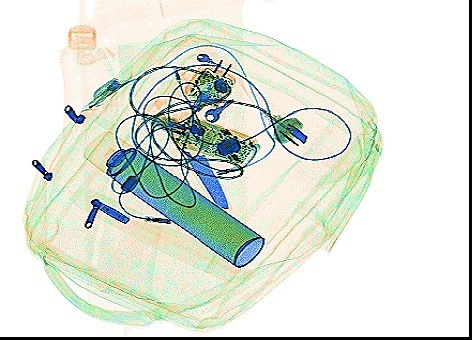knife: (150, 89, 229, 210)
pressure: (79, 127, 265, 268)
